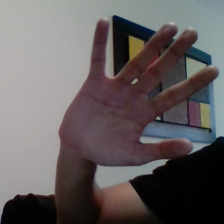left: (55, 10, 224, 171)
